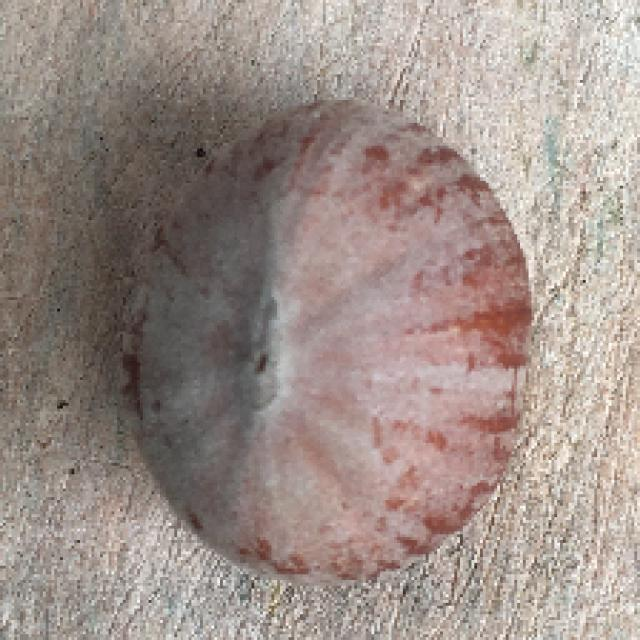qualityHazelnut: (121, 94, 534, 578)
